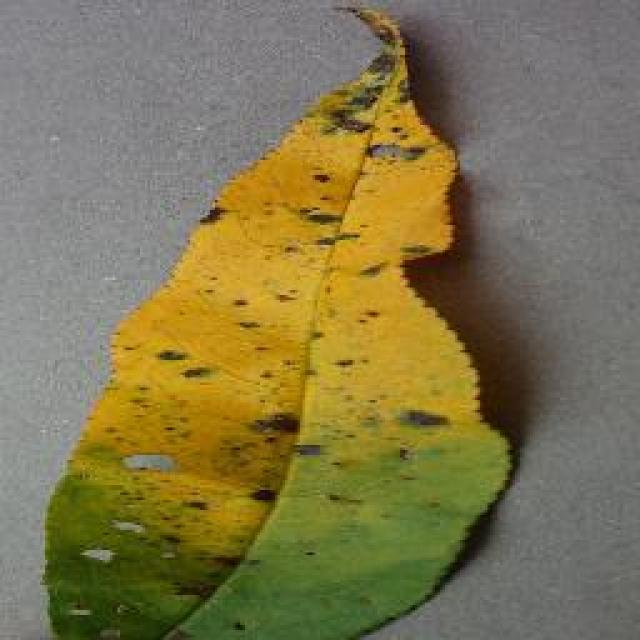Peach_Bacterial_Spot: (177, 40, 458, 570)
